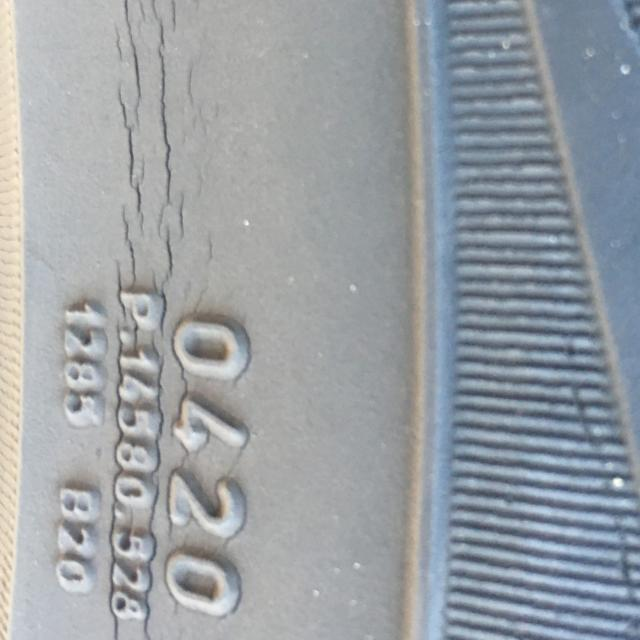Cracks: (85, 0, 232, 640), (546, 333, 640, 640)
Non-defective: (284, 3, 480, 640)
